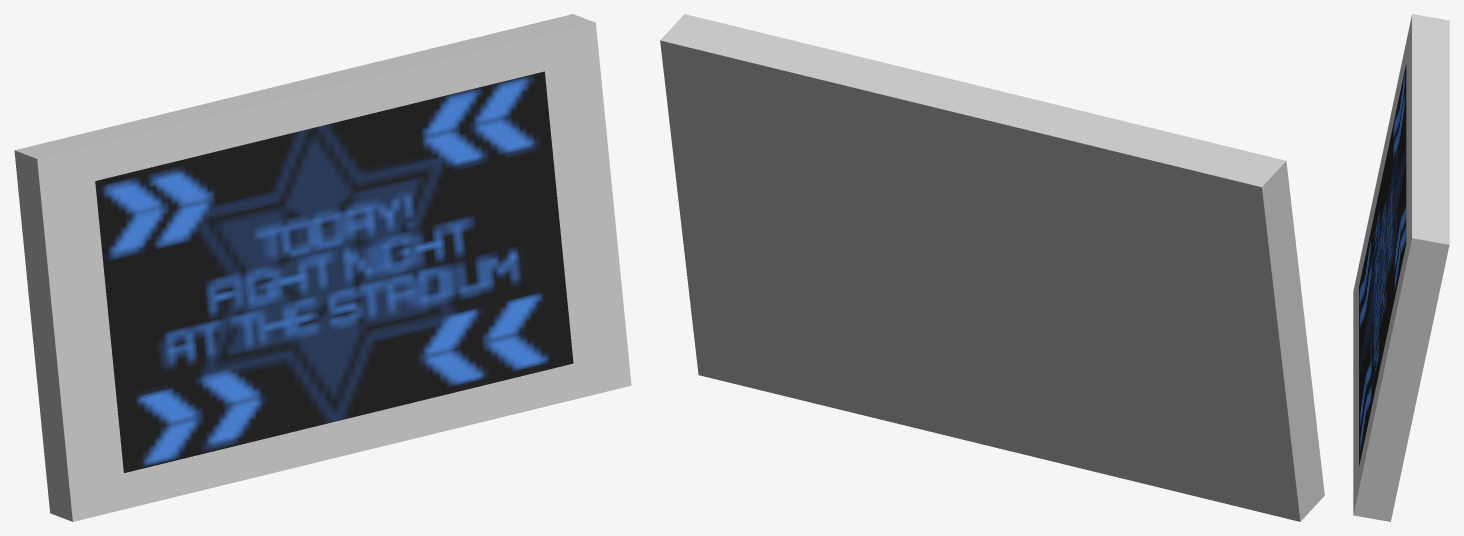
The model's file is SM_TvScreen_02.fbx.
The picture shows the model from 3 angles, left to right: view 1: azimuth 30°, elevation 25°; view 2: azimuth 150°, elevation 25°; view 3: azimuth 270°, elevation 25°; orthographic projection. The views are drawn at different scales.
Parts seen in each view (by area): view 1: SM_TvScreen_02; view 2: SM_TvScreen_02; view 3: SM_TvScreen_02.
Part boxes in pixels (x1,y1,x2,y2): SM_TvScreen_02: [14, 14, 631, 521]; SM_TvScreen_02: [660, 14, 1324, 521]; SM_TvScreen_02: [1353, 14, 1449, 521].
Size of the model in its own units: 111 by 65.63 by 20.17.
